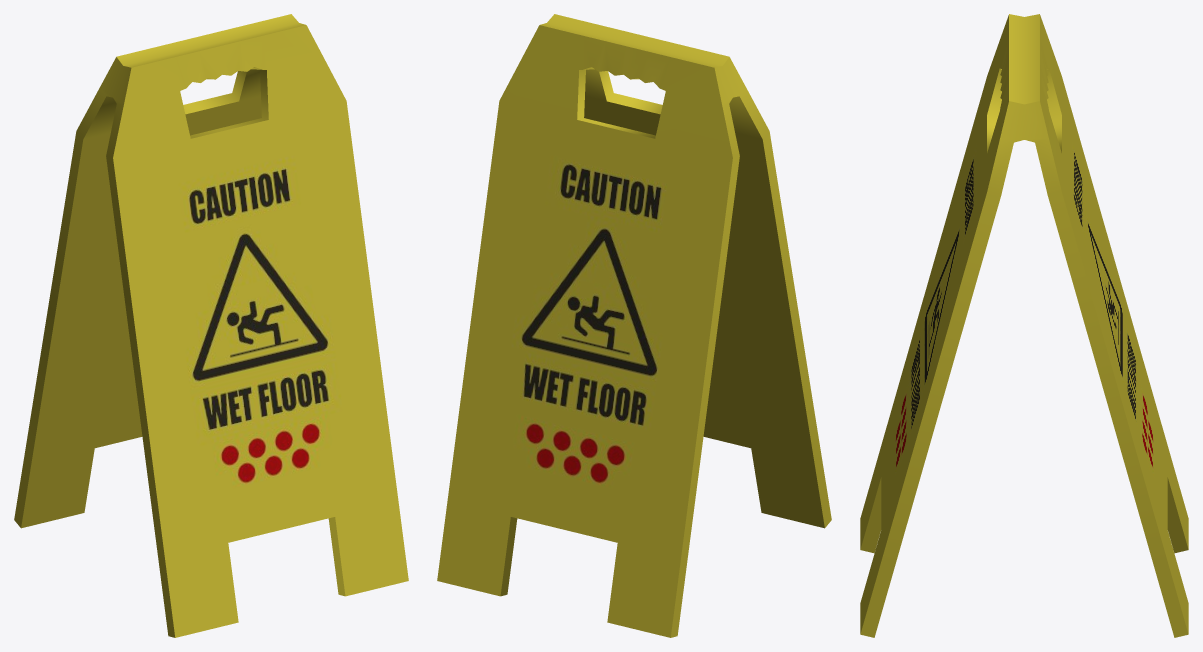
Rendered from señal_mojado.glb.
3 renders of one model, left to right at view 1: azimuth 30°, elevation 25°; view 2: azimuth 150°, elevation 25°; view 3: azimuth 270°, elevation 25°, orthographic.
Visible parts, largest first — view 1: WetFloorSign_01; view 2: WetFloorSign_01; view 3: WetFloorSign_01.
Boxes of the visible parts, x1,y1,x2,y2 form: WetFloorSign_01: (14, 14, 408, 637); WetFloorSign_01: (437, 14, 831, 637); WetFloorSign_01: (860, 14, 1188, 637).
Size of the model in its own units: 0.3001 by 0.6295 by 0.3585.
1 material, 1 textured.
